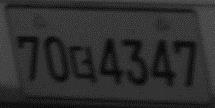0: (42, 34, 70, 83)
3: (121, 37, 148, 85)
4: (148, 38, 177, 88), (97, 37, 125, 86)
7: (172, 38, 199, 88), (14, 34, 41, 82)
더: (69, 44, 98, 83)
